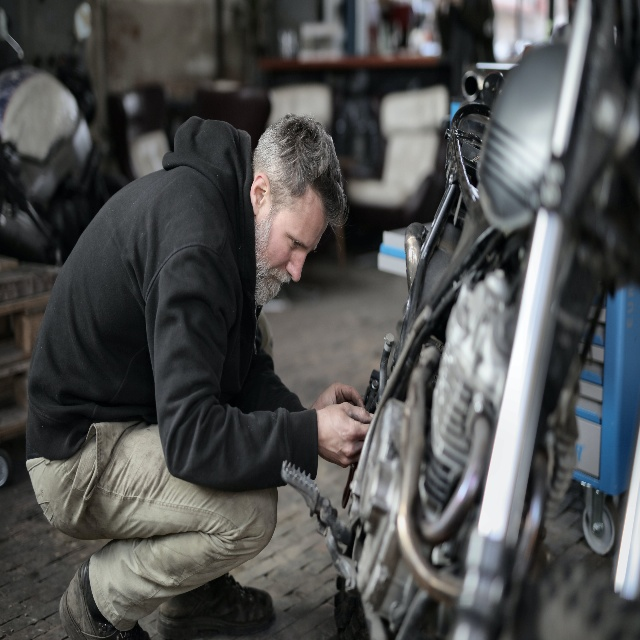Sin_guantes: (317, 402, 374, 470), (311, 383, 366, 411)
